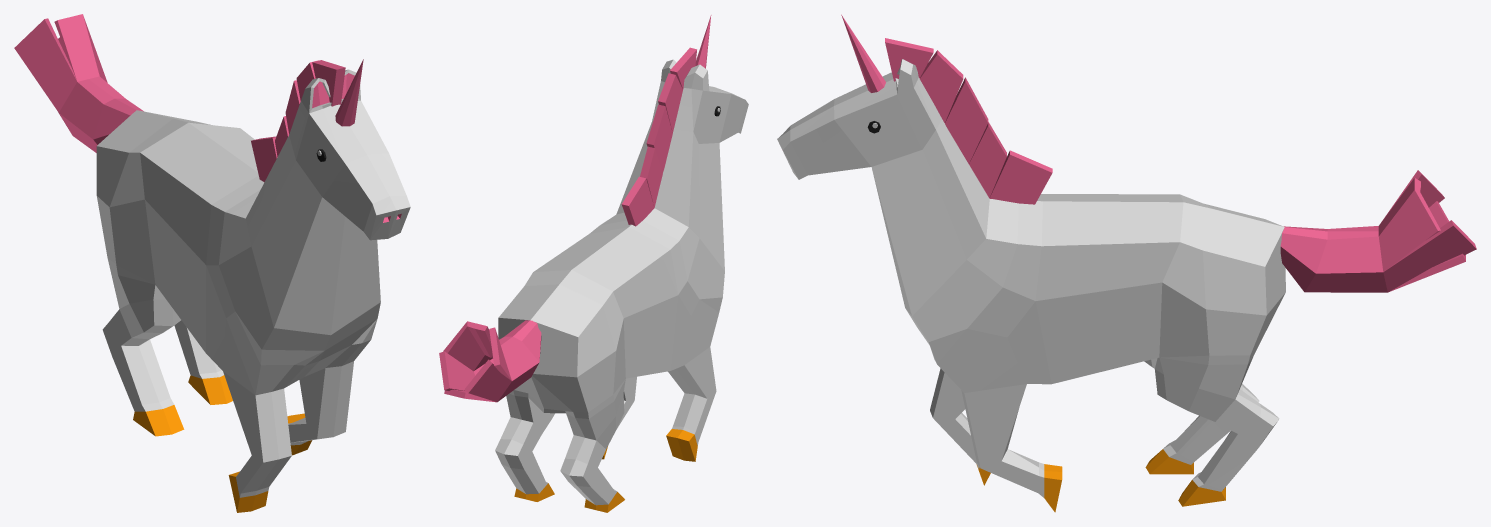
Rendered from Unicorn_01.fbx.
3 renders of one model, left to right at view 1: azimuth 30°, elevation 25°; view 2: azimuth 150°, elevation 25°; view 3: azimuth 270°, elevation 25°, orthographic. The views are drawn at different scales.
Visible parts, largest first — view 1: Unicorn_01_Cube.028_Cube.030; view 2: Unicorn_01_Cube.028_Cube.030; view 3: Unicorn_01_Cube.028_Cube.030.
Part boxes in pixels (x1,y1,x2,y2): Unicorn_01_Cube.028_Cube.030: (14, 14, 410, 512); Unicorn_01_Cube.028_Cube.030: (439, 15, 748, 512); Unicorn_01_Cube.028_Cube.030: (777, 14, 1476, 512).
Size of the model in its own units: 6.94 by 24.43 by 31.9.
